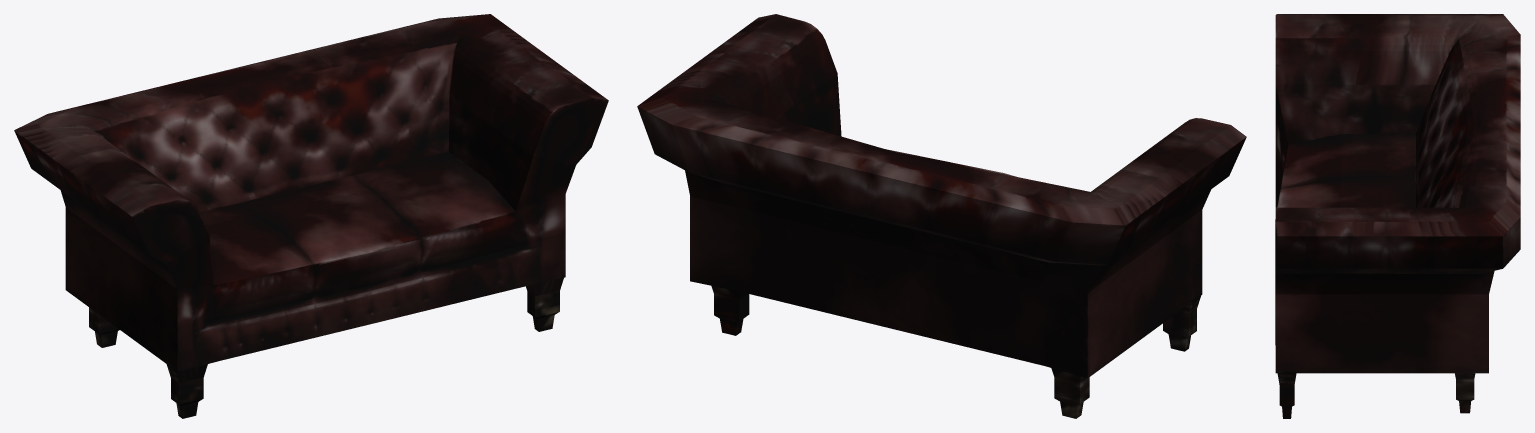
Rendered from SOFA.fbx.
3 views of the same model, side by side, from view 1: azimuth 30°, elevation 25°; view 2: azimuth 150°, elevation 25°; view 3: azimuth 270°, elevation 25° (orthographic). The views are drawn at different scales.
Visible parts, largest first — view 1: SOFA V LOW POLLY; view 2: SOFA V LOW POLLY; view 3: SOFA V LOW POLLY.
Part boxes in pixels (bbox=[...]): SOFA V LOW POLLY: bbox=[14, 14, 608, 418]; SOFA V LOW POLLY: bbox=[637, 14, 1246, 418]; SOFA V LOW POLLY: bbox=[1275, 14, 1520, 418].
Bounding box in the file's own units: 895 × 402 × 418.
